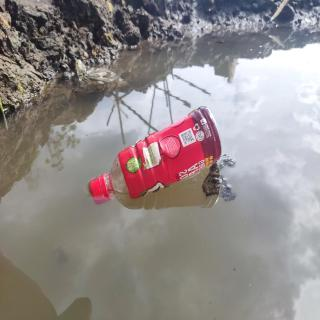bottle: (87, 100, 226, 208)
